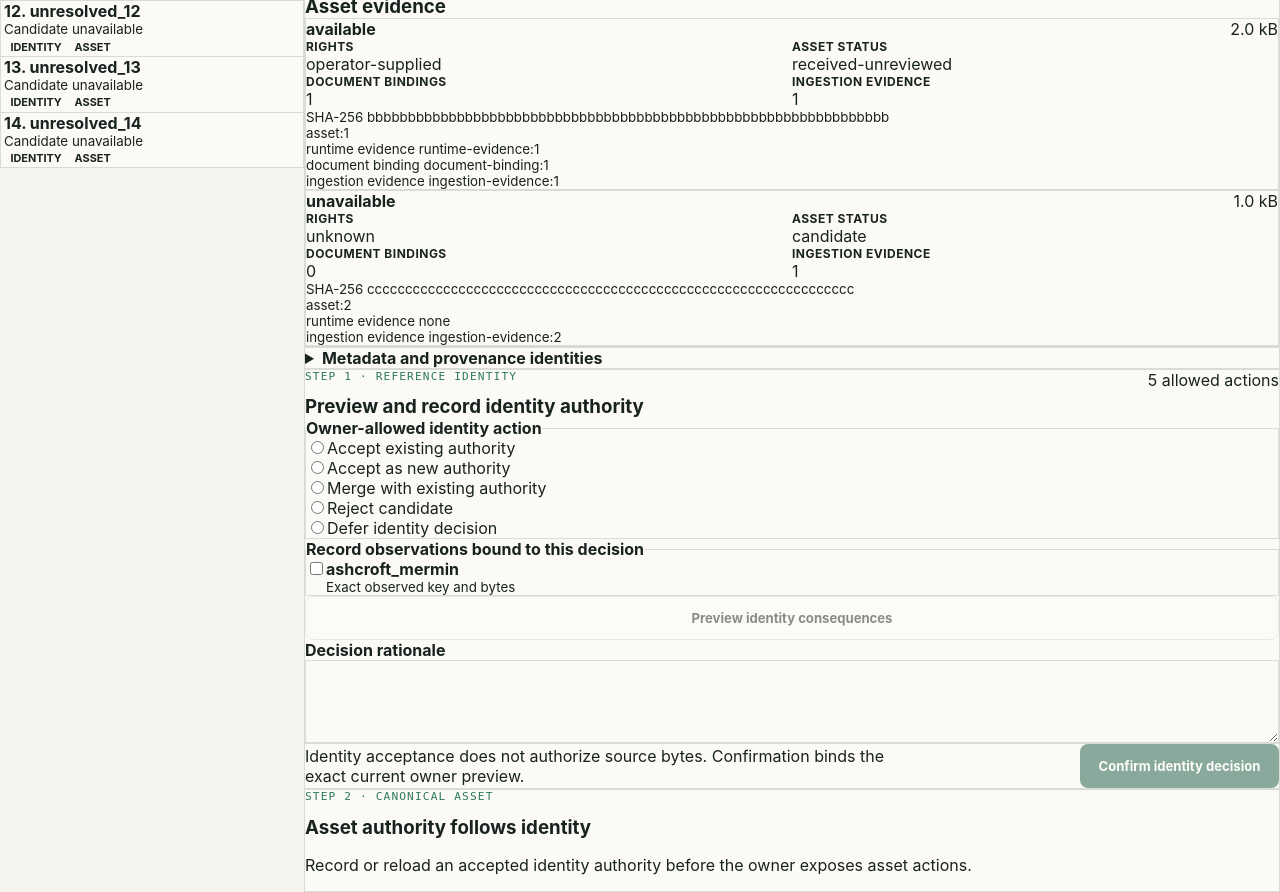
Test case: freezes the complete identity PUT for an exact transport retry
The width and height of the screenshot is (1280, 892).
(page scrolled)
Click the radio button labelled "Accept as new authority": (318, 468) [311, 461, 324, 474]
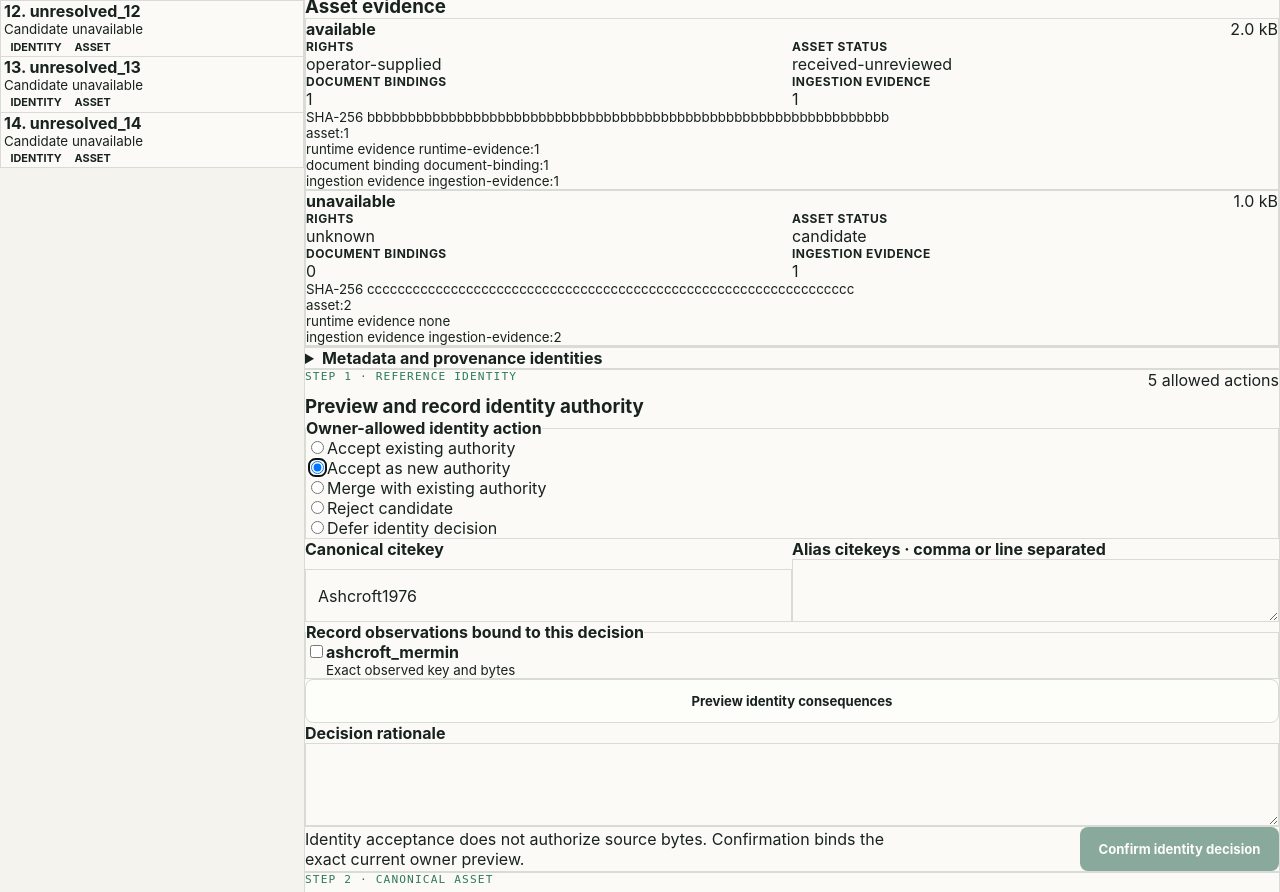
Click the checkbox labelled "ashcroft_mermin Exact observed key and bytes": (316, 652) [310, 645, 323, 658]
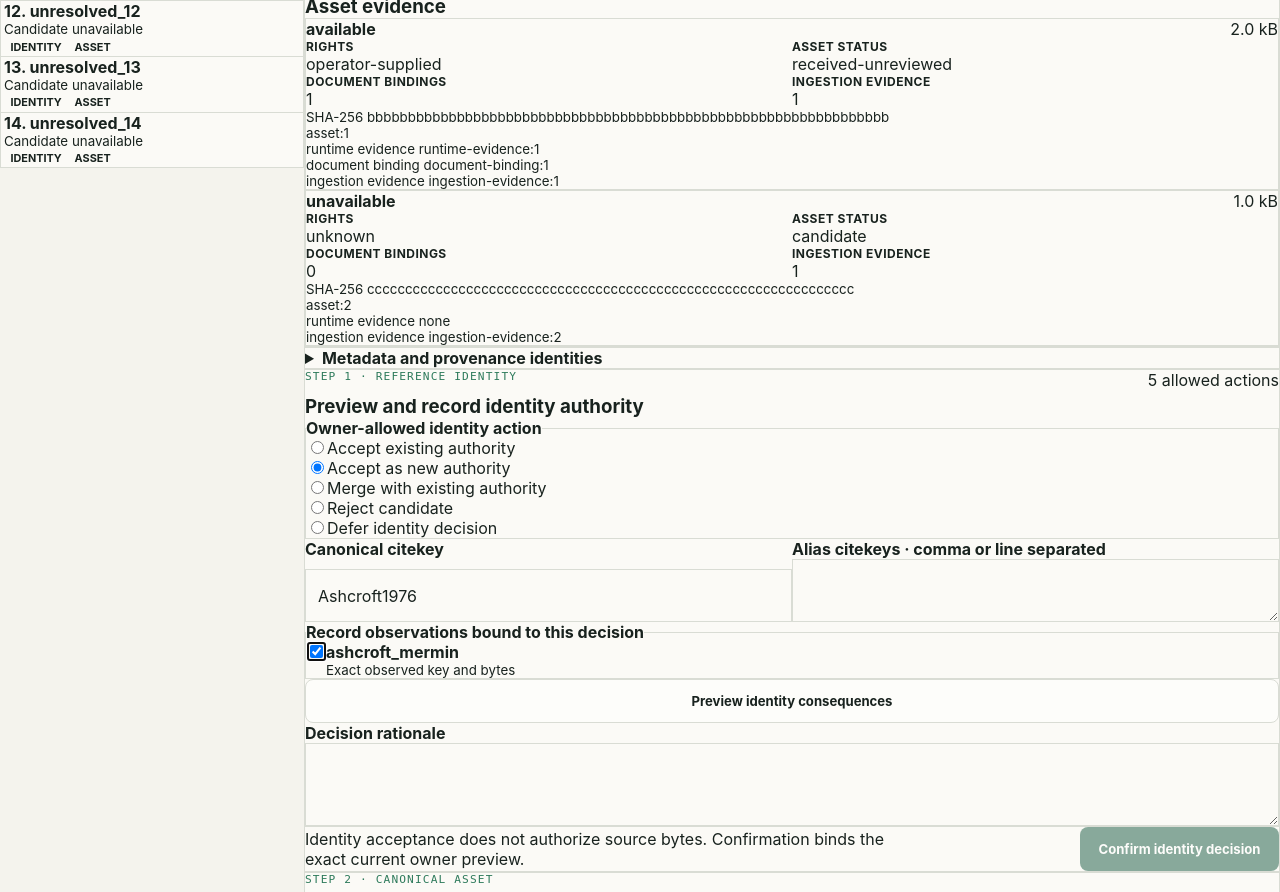
In the text box labelled "Decision rationale": (792, 784) [305, 743, 1279, 826], type "Reviewed owner evidence and exact source bytes."
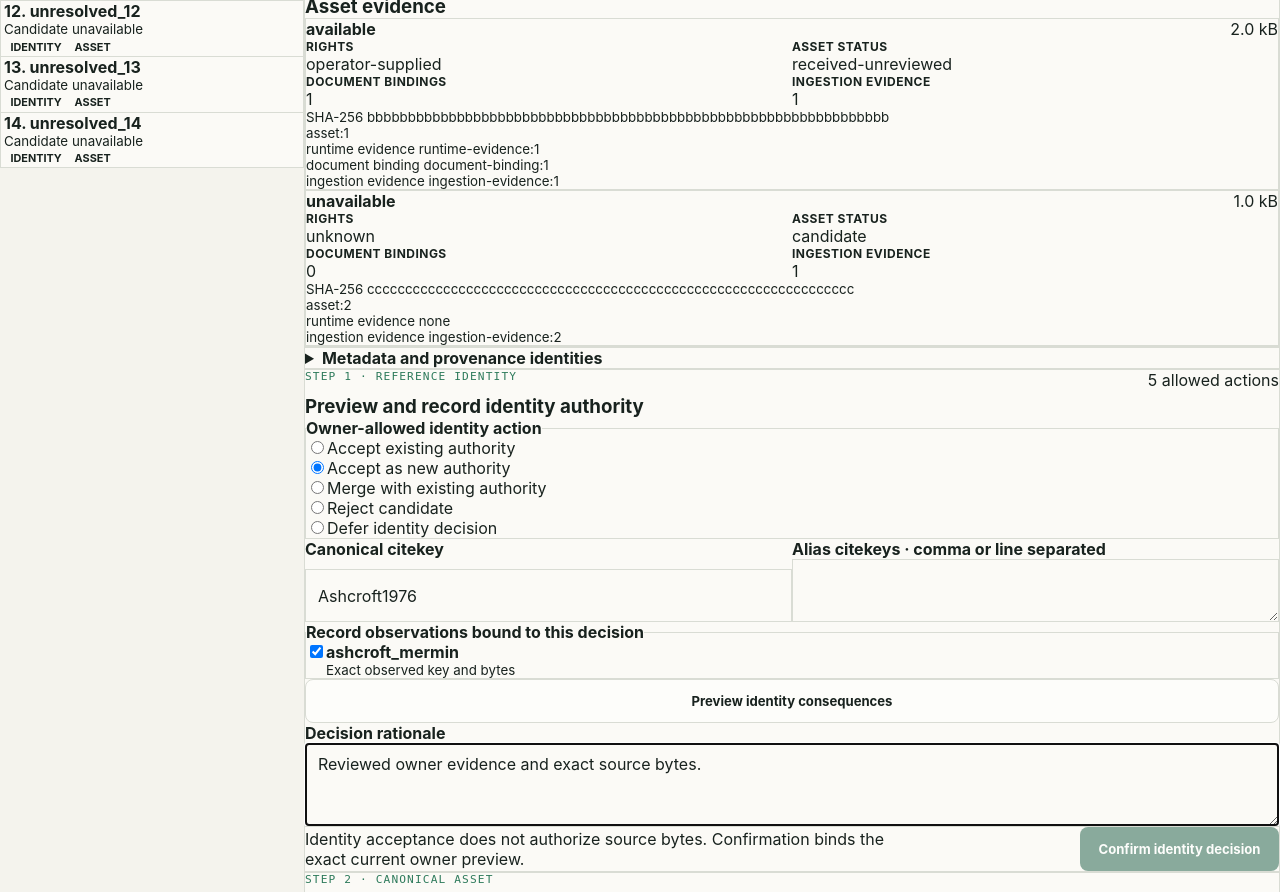
Click the button "Preview identity consequences": (792, 701) [305, 679, 1279, 723]
(page scrolled)
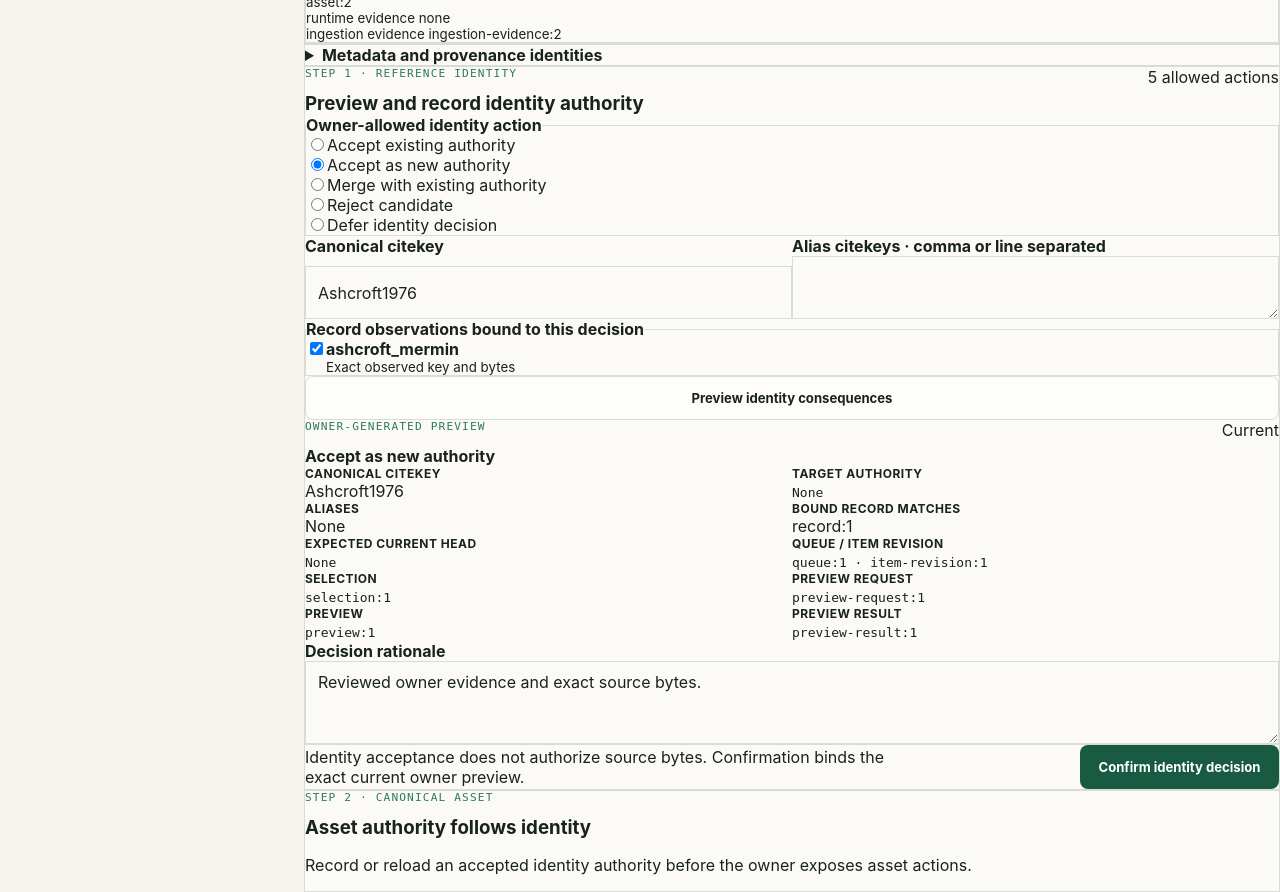
Expected: the element named "Owner-generated identity preview" is shown, [305, 420, 1279, 641]
Click the button "Confirm identity decision": (1179, 767) [1080, 745, 1279, 789]
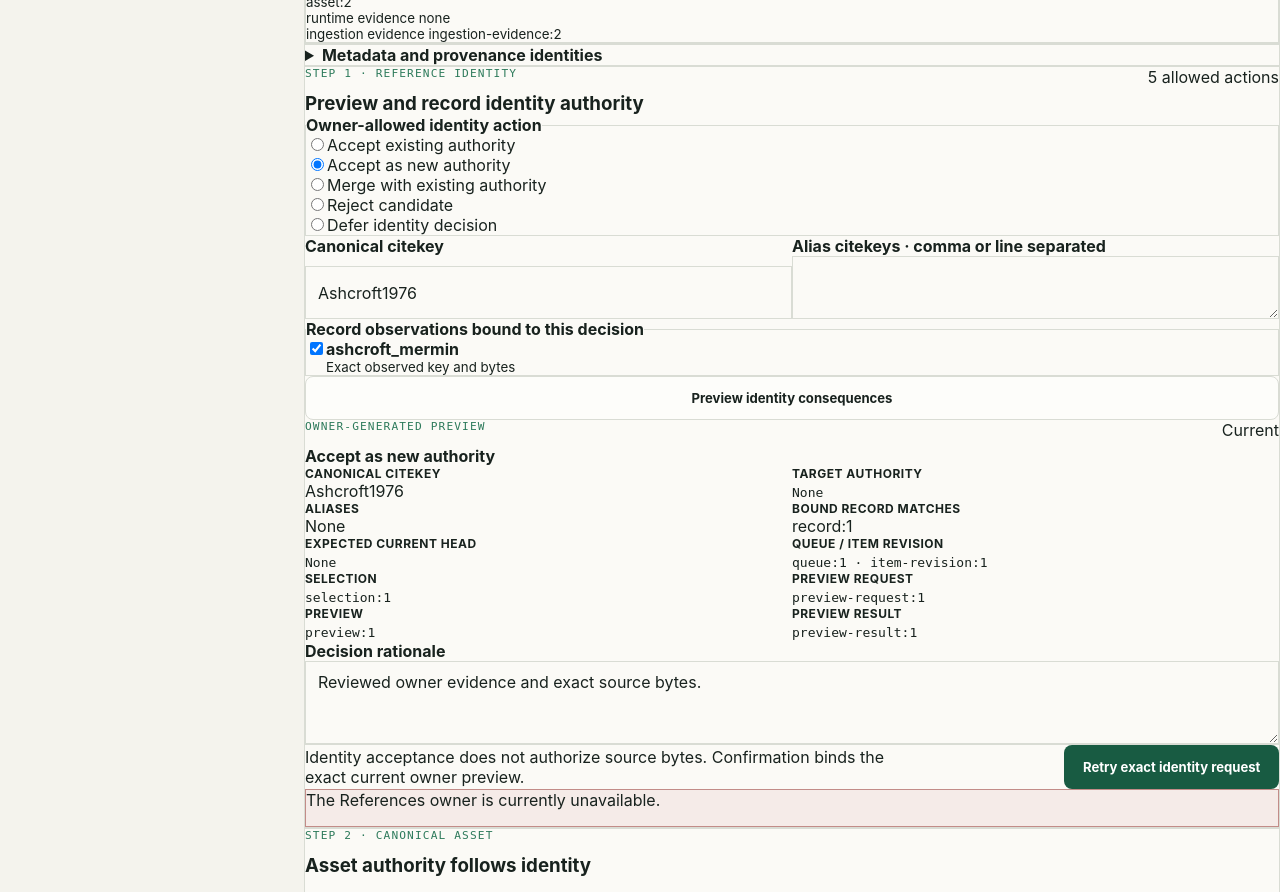
Click the button "Retry exact identity request": (1172, 767) [1064, 745, 1279, 789]
(page scrolled)
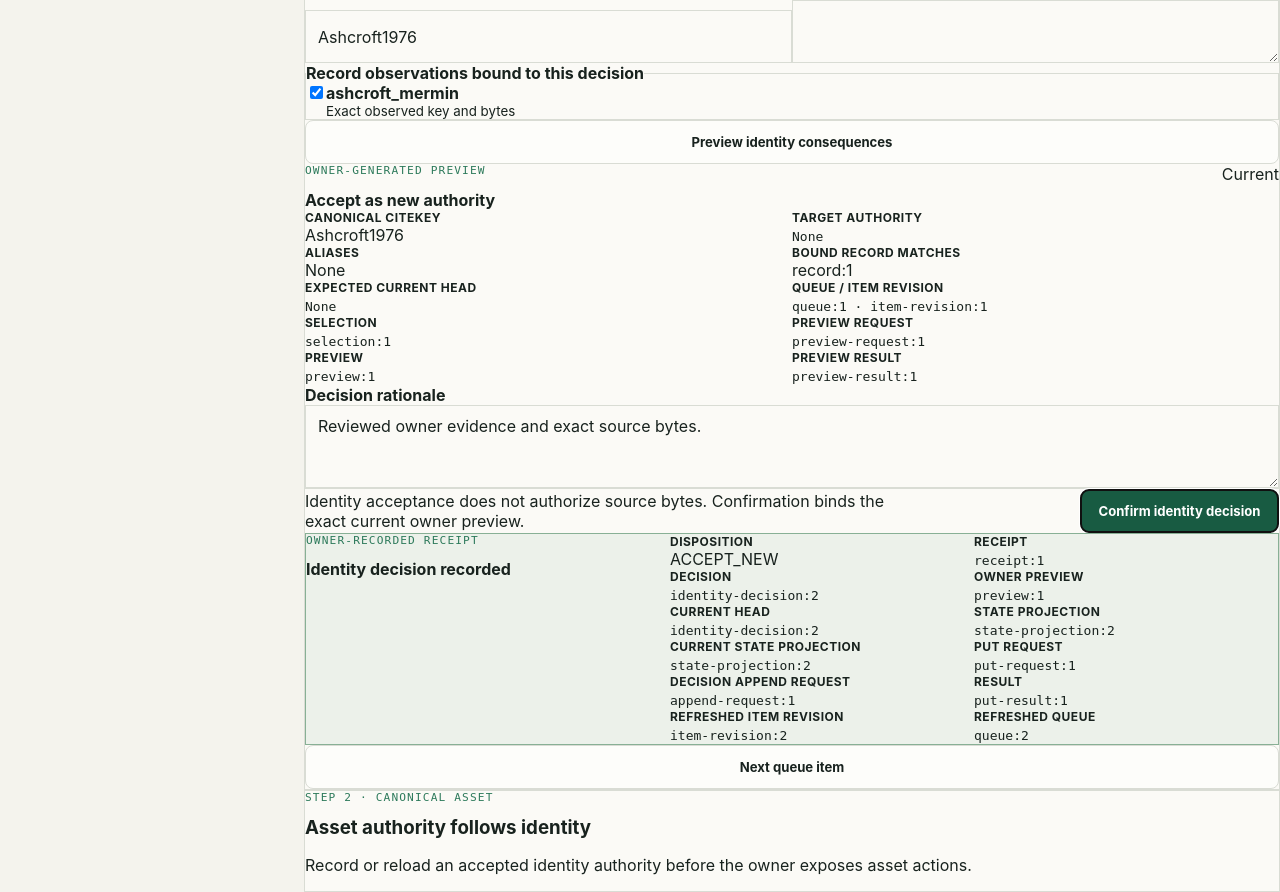
Expected: the message named "Recorded owner receipt" is shown, [305, 533, 1279, 745]
